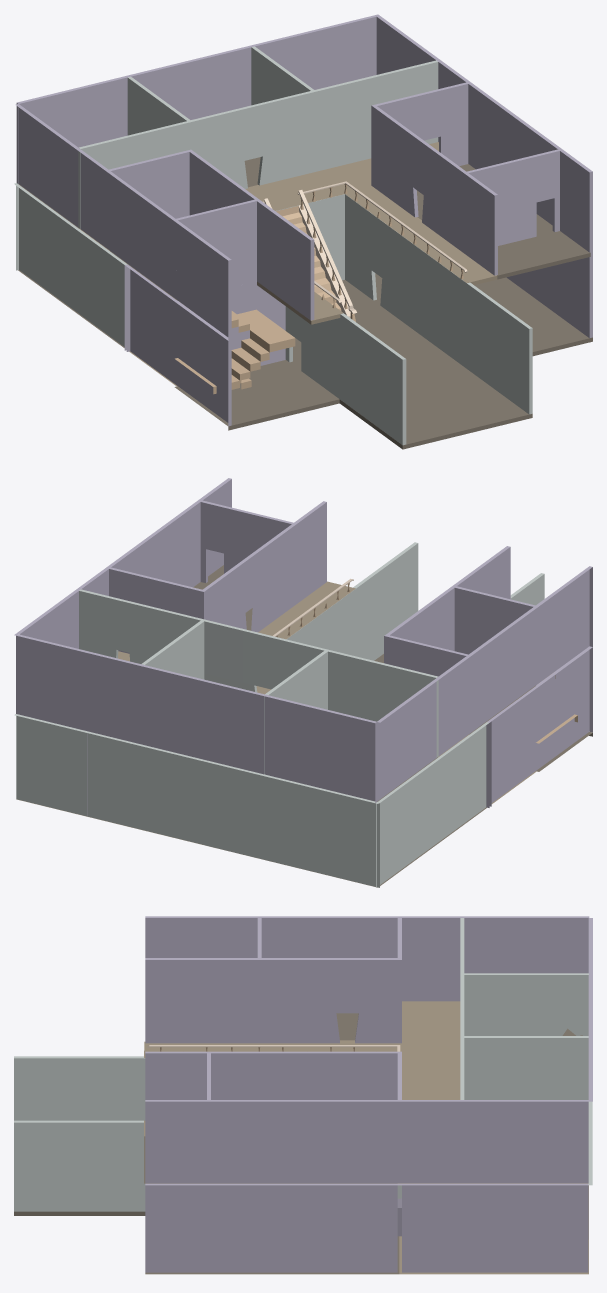
File: HauntedHotel 1.fbx
The picture shows the model from 3 angles, top to bottom: view 1: azimuth 30°, elevation 25°; view 2: azimuth 150°, elevation 25°; view 3: azimuth 270°, elevation 25°; orthographic projection. The views are drawn at different scales.
Parts seen in each view (by area): view 1: pCube10; view 2: pCube10; view 3: pCube10.
Boxes of the visible parts, bbox=[...] form: pCube10: bbox=[14, 14, 592, 449]; pCube10: bbox=[14, 478, 592, 887]; pCube10: bbox=[14, 916, 592, 1274].
Bounding box in the file's own units: 105 × 46.81 × 139.
